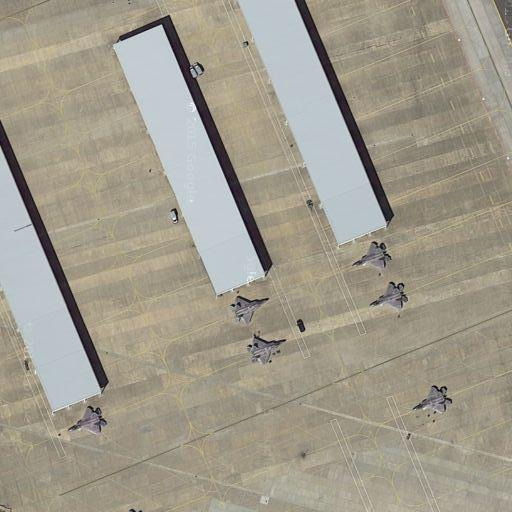F-22: (410, 380, 455, 419), (229, 292, 273, 327), (65, 403, 109, 437), (243, 334, 288, 367), (353, 238, 393, 275), (368, 279, 411, 313)
